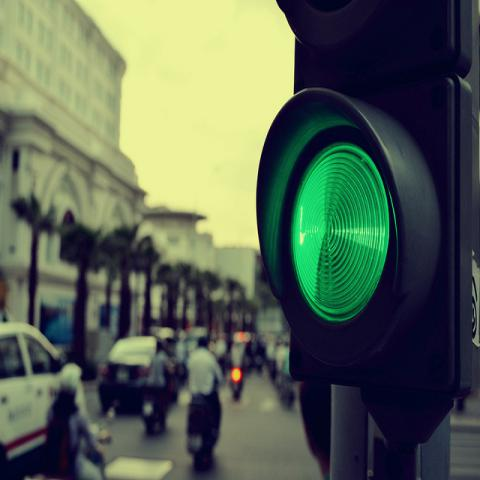car: (1, 319, 61, 467), (97, 336, 156, 411)
motorcycle: (184, 388, 221, 472), (138, 388, 170, 436), (230, 364, 244, 402), (252, 337, 266, 375), (268, 360, 275, 382)
